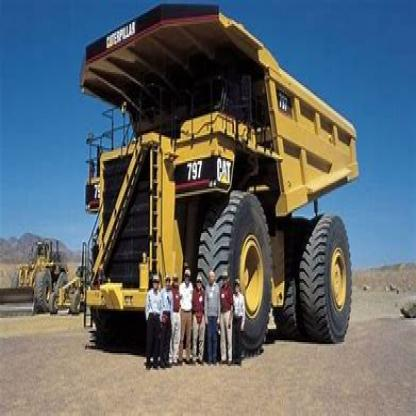dump_truck: (63, 2, 366, 346)
